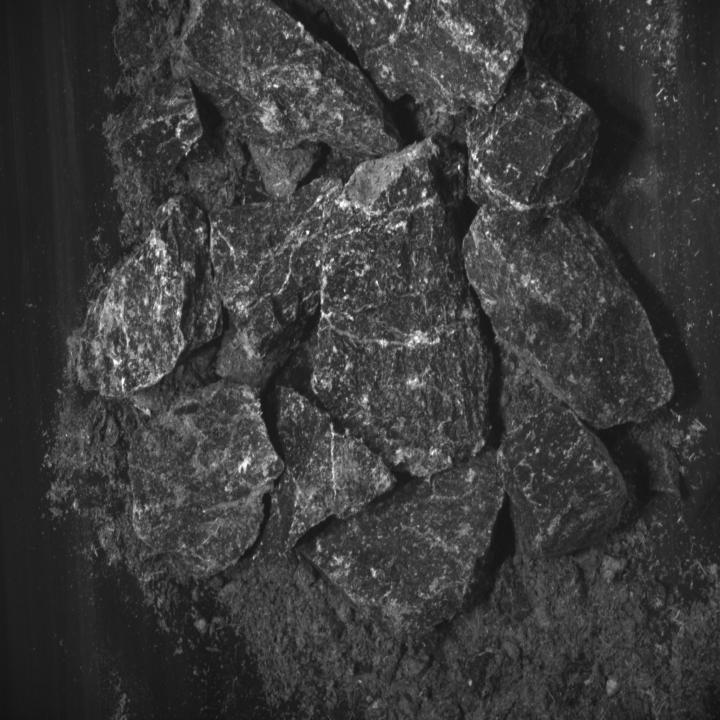stone: (312, 147, 494, 477), (461, 207, 671, 430), (294, 448, 507, 640), (296, 0, 526, 168), (170, 0, 408, 153), (74, 195, 222, 394), (129, 385, 278, 582), (208, 170, 341, 390), (266, 381, 400, 566), (498, 399, 630, 558), (464, 79, 595, 211), (118, 76, 204, 192)
